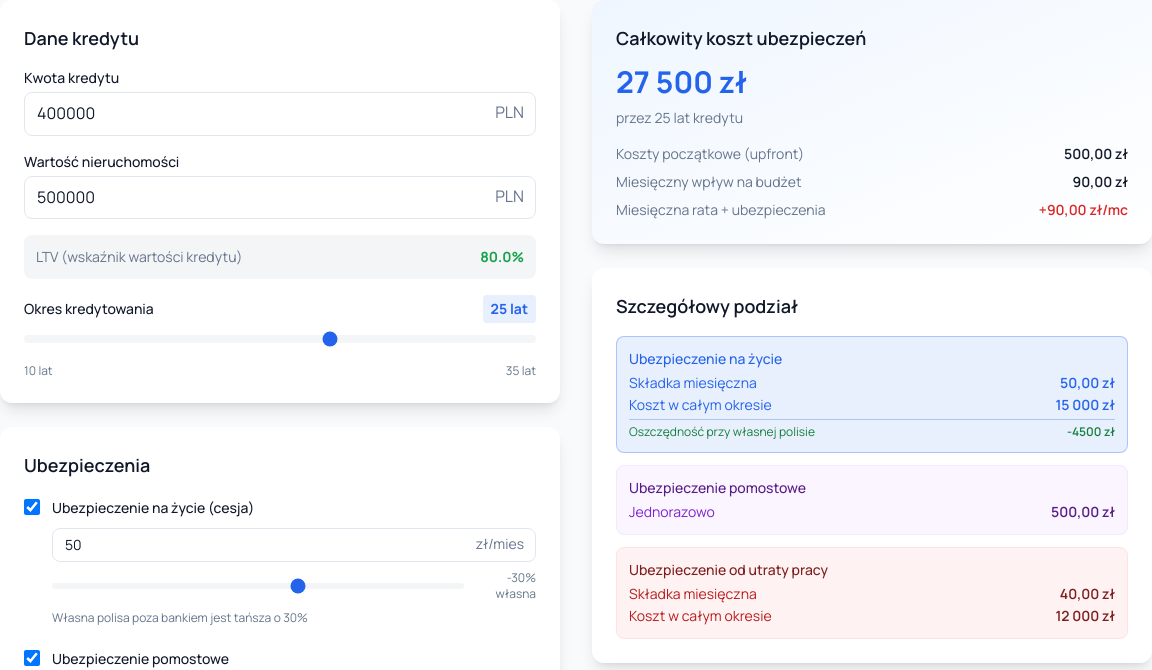
Test: InsuranceCalc › zmiana wartości nieruchomości wpływa na LTV
Replace the text in the number field labelled "Wartość nieruchomości" with "300000" at [280, 197], box [24, 176, 536, 219]
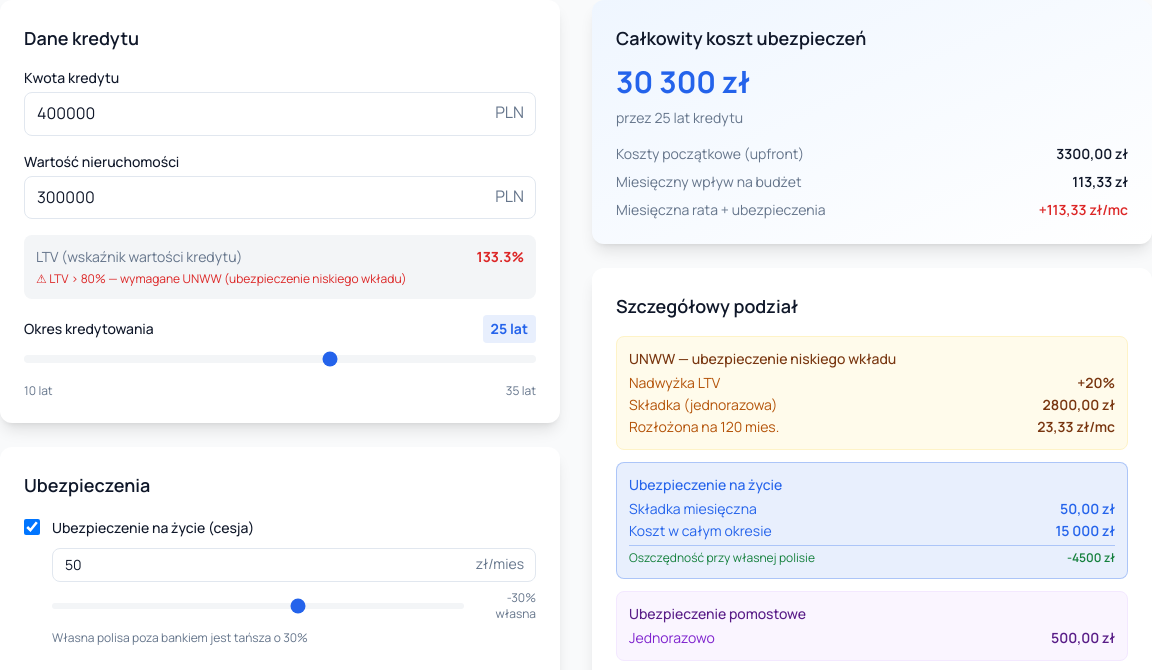
Expected: the text "⚠ LTV > 80% — wymagane UNWW (ubezpieczenie niskiego wkładu)" is shown, [36, 270, 407, 287]
